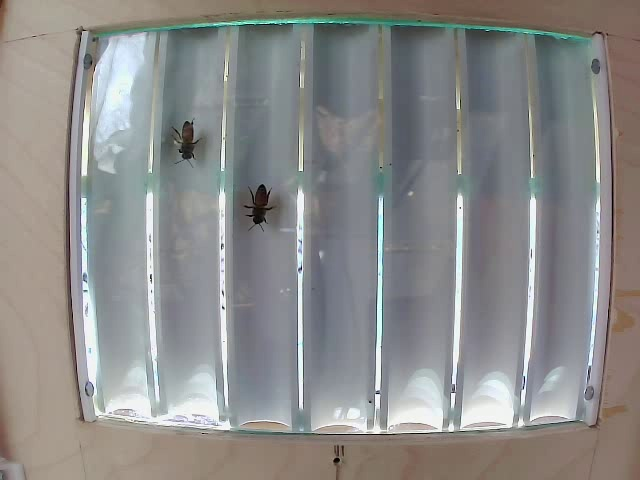bee: (233, 165, 293, 234), (163, 104, 210, 179)
